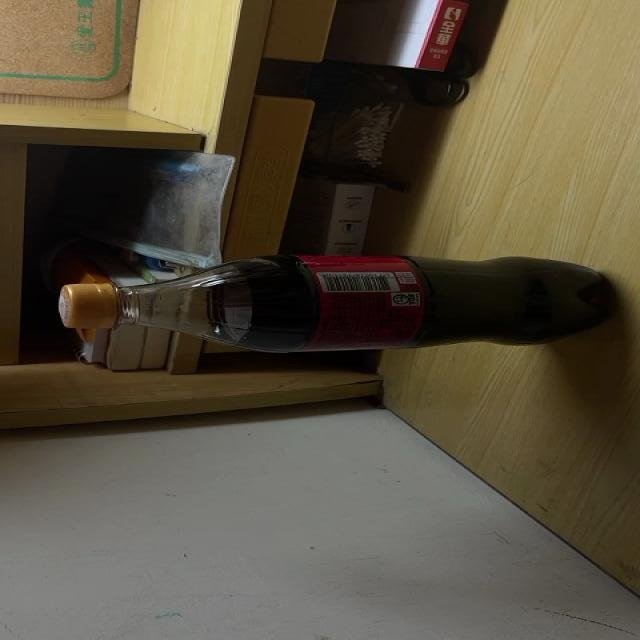Coca-Cola: (58, 255, 611, 353)
